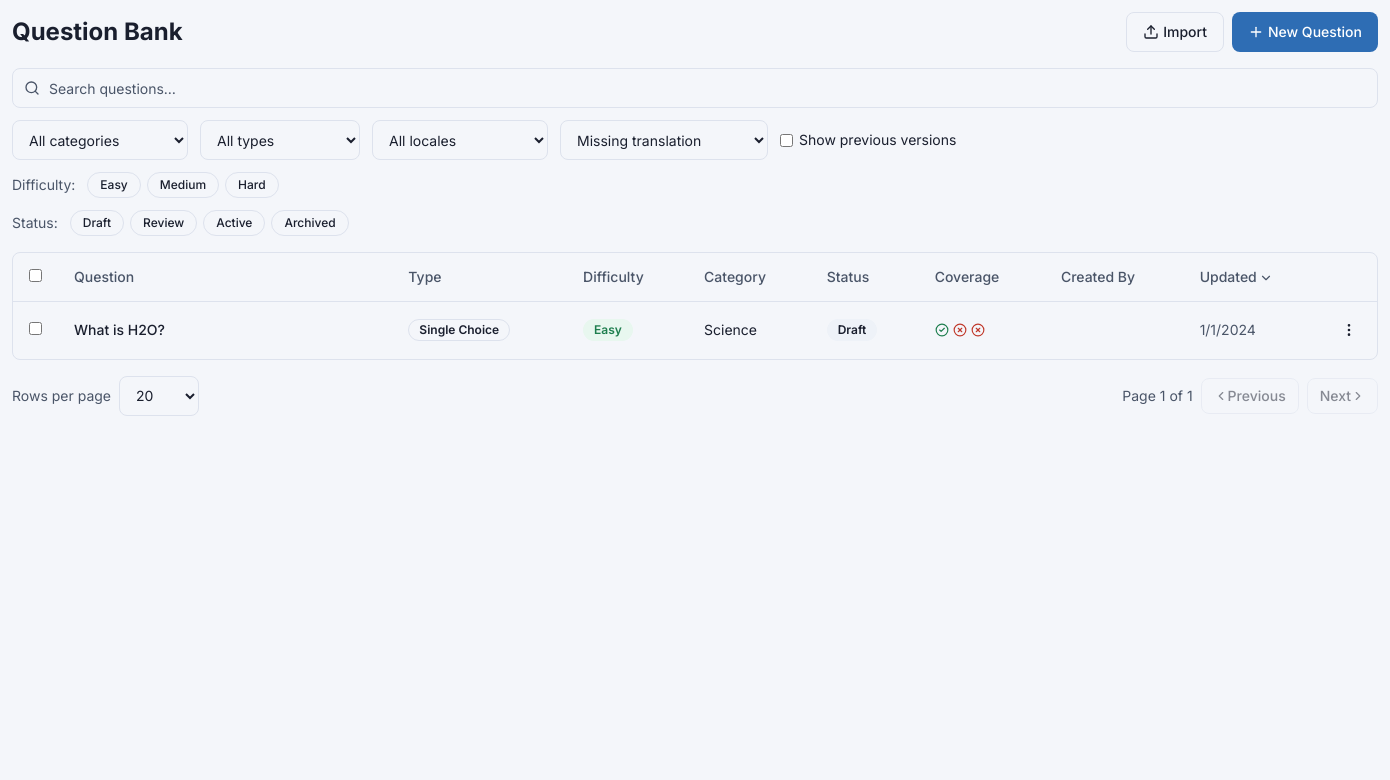
Test: QuestionBankPage bulk export (Bearer download) › shows an error when the export fails
Expected: the button "What is H2O?" is shown, top-left (74, 320), bottom-right (376, 340)
Click the checkbox named "Select all" at x=36, y=275, box top-left (29, 269), bottom-right (42, 282)
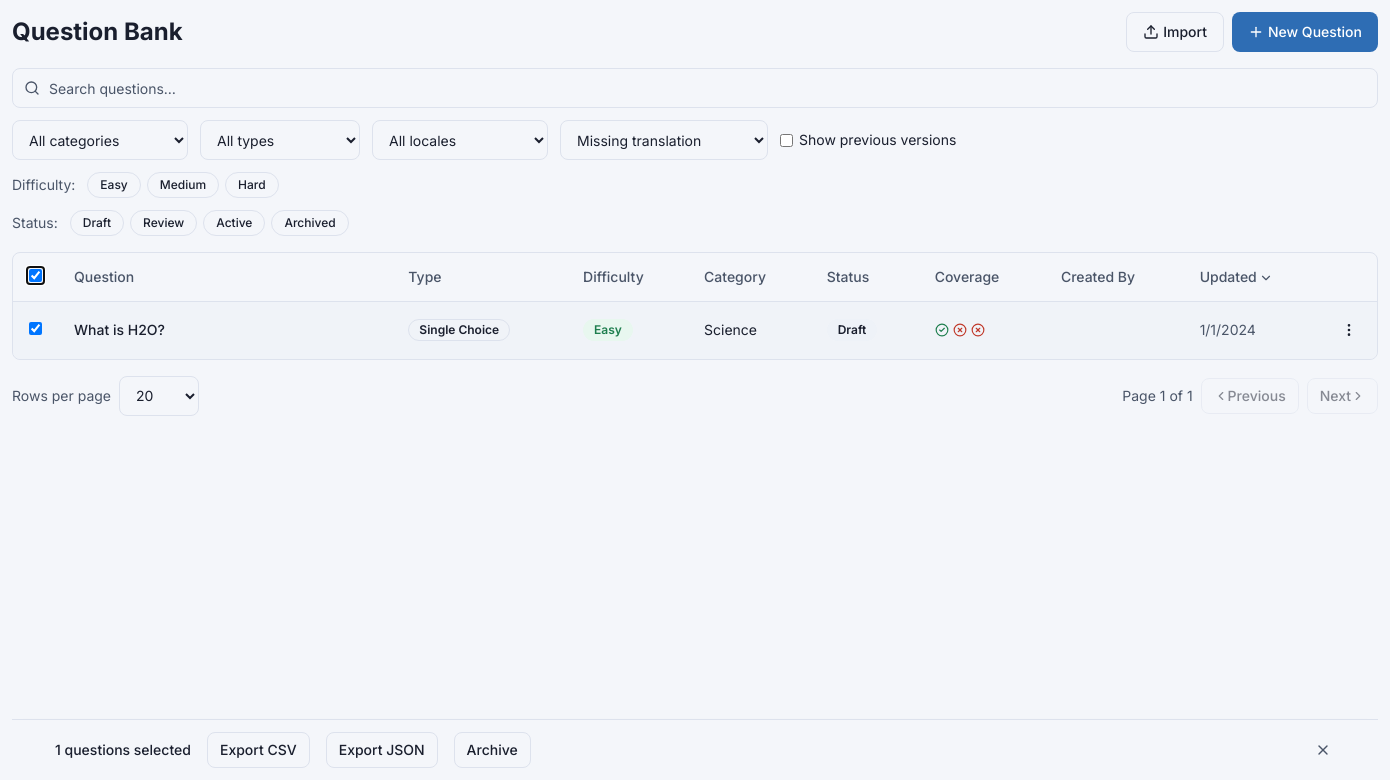
Click the button "Export CSV" at x=258, y=750, box top-left (207, 732), bottom-right (310, 768)
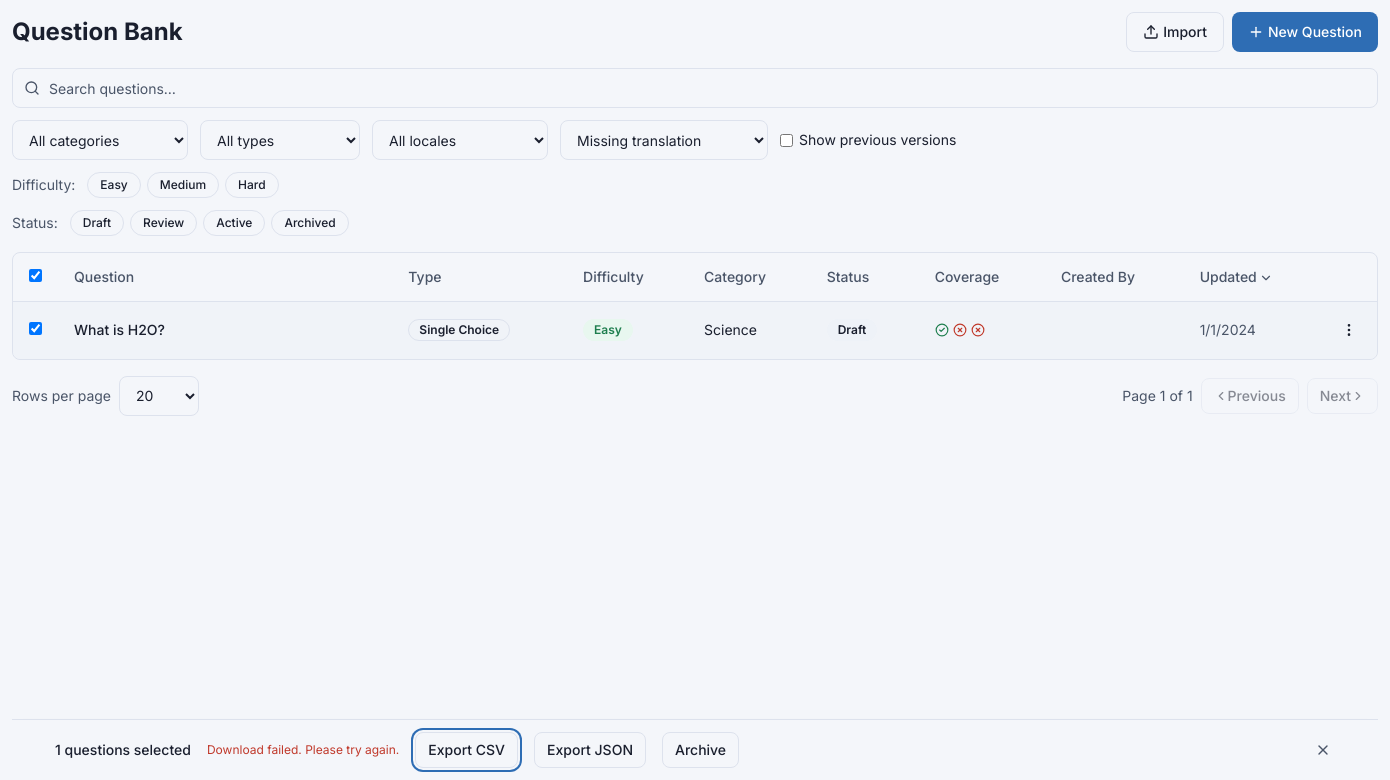
Expected: the message shows "Download failed", top-left (207, 742), bottom-right (399, 757)
